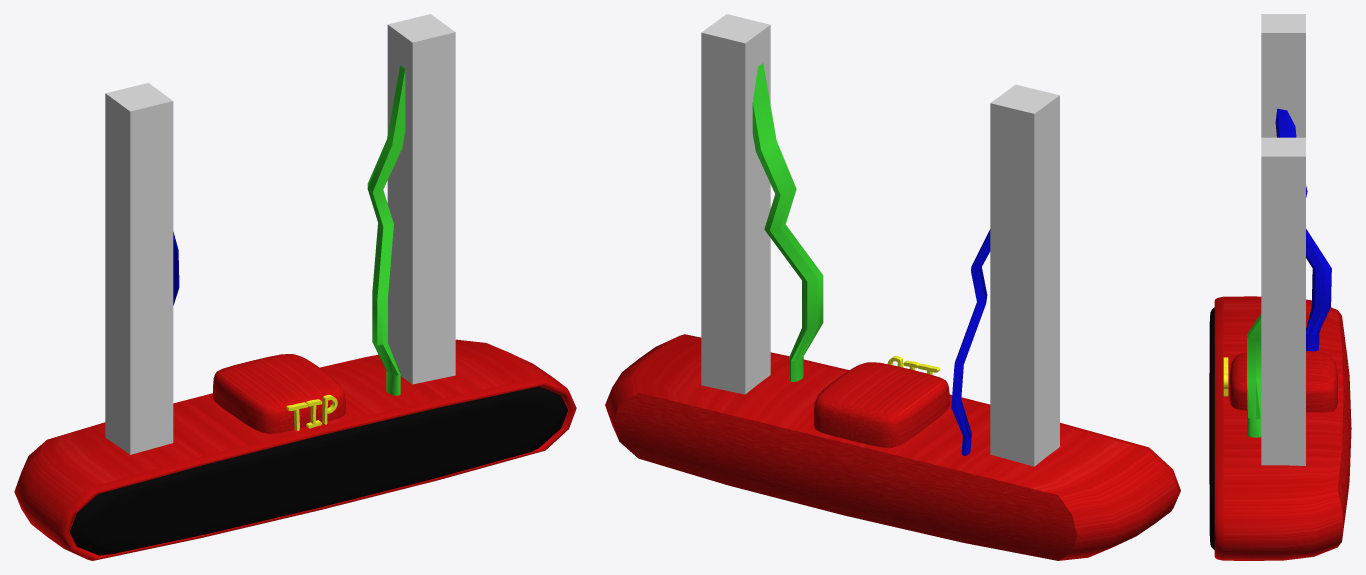
The model's file is TipPanelModified.obj.
3 renders of one model, left to right at view 1: azimuth 30°, elevation 25°; view 2: azimuth 150°, elevation 25°; view 3: azimuth 270°, elevation 25°, orthographic. The views are drawn at different scales.
Parts seen in each view (by area): view 1: mesh01, mesh02, mesh03, mesh04, subdivision01; view 2: mesh01, mesh02, mesh03, mesh04, subdivision01, subdivision02; view 3: mesh01, mesh03, mesh02, mesh04, subdivision02, subdivision01.
Part boxes in pixels (x1,y1,x2,y2): mesh01: (14, 339, 576, 560); mesh02: (105, 83, 173, 454); mesh03: (387, 14, 455, 384); mesh04: (213, 354, 345, 433); subdivision01: (367, 65, 405, 395); mesh01: (605, 334, 1180, 560); mesh02: (990, 84, 1059, 466); mesh03: (701, 14, 770, 394); mesh04: (813, 362, 949, 447); subdivision01: (752, 63, 823, 381); subdivision02: (951, 229, 990, 455); mesh01: (1209, 296, 1351, 560); mesh03: (1261, 137, 1305, 465); mesh02: (1261, 14, 1305, 137); mesh04: (1229, 351, 1337, 412); subdivision02: (1275, 108, 1331, 351); subdivision01: (1247, 313, 1261, 437).
Bounding box in the file's own units: 58.42 × 45.42 × 15.42.
